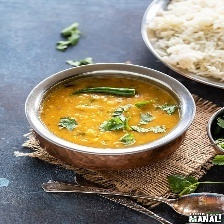dal: (39, 77, 180, 149)
